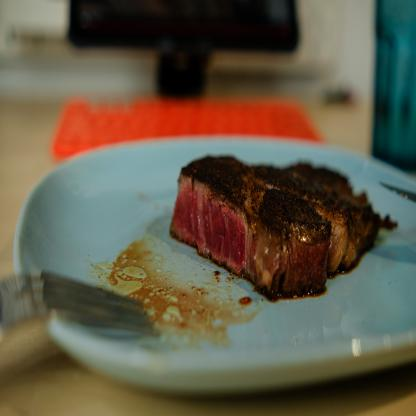Carne: (171, 161, 328, 297), (267, 170, 394, 268)
